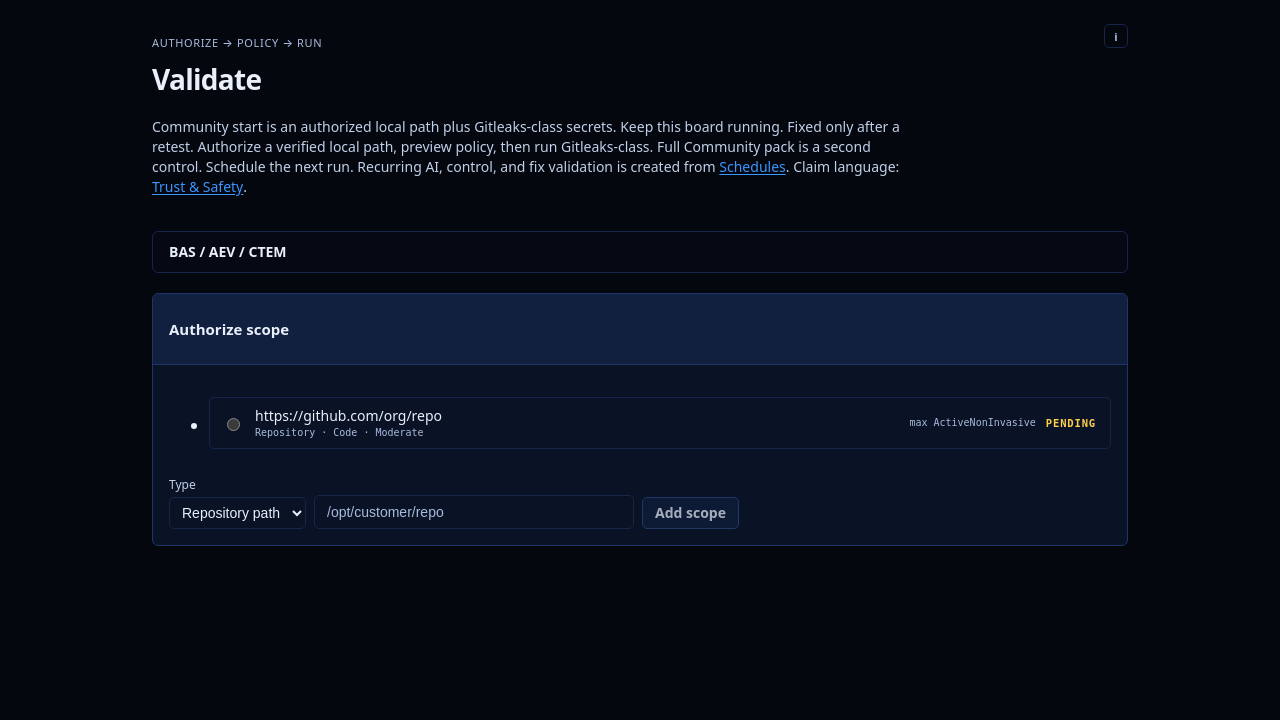
Test: ValidationSnapshotFlow hosted GitHub paste › does not offer Verify for a pending hosted GitHub URL repository
expect the text "https://github.com/org/repo" is shown: met, box [255,406,442,425]
Click the radio button. click: (234, 425)
box: [227,418,240,431]
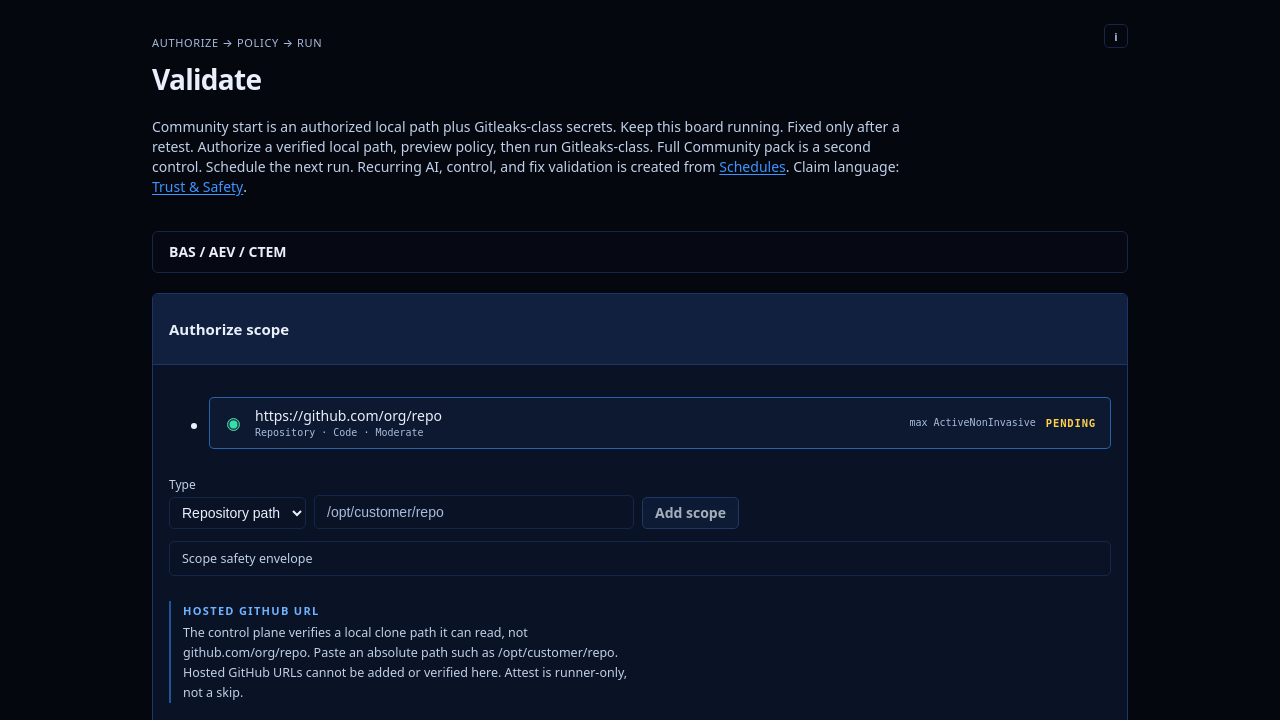
expect the text "Pending" is shown: met, box [1044,414,1098,433]
expect the element that starts with "Hosted GitHub URL" shows "cannot be added or verified": met, box [183,624,627,701]
